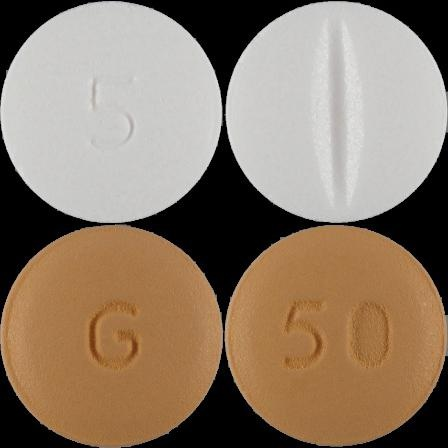63187-477: (0, 0, 224, 224)
